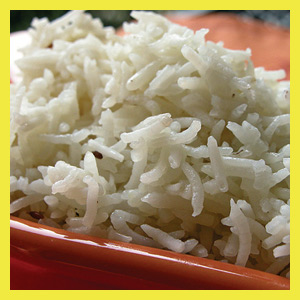plain rice: (11, 20, 291, 270)
